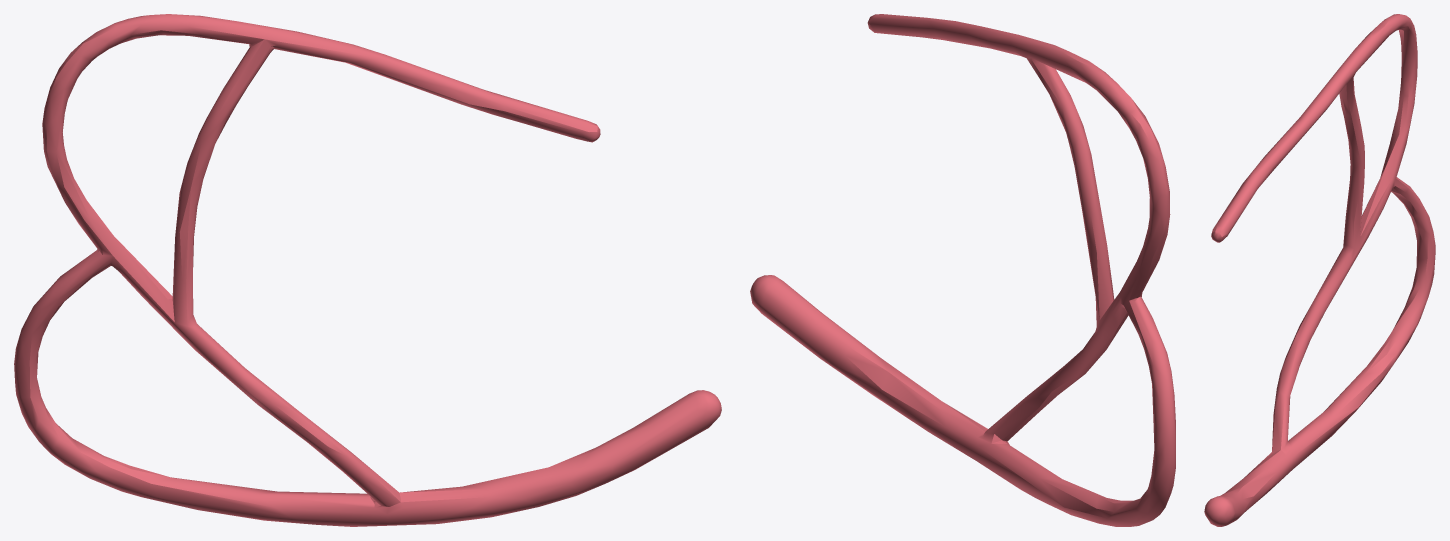
File: fma15407_fj3591.glb
The picture shows the model from 3 angles, left to right: view 1: azimuth 30°, elevation 25°; view 2: azimuth 150°, elevation 25°; view 3: azimuth 270°, elevation 25°; orthographic projection. The views are drawn at different scales.
Parts seen in each view (by area): view 1: FMA15407_FJ3591; view 2: FMA15407_FJ3591; view 3: FMA15407_FJ3591.
Part boxes in pixels (left/top/right/bottom): FMA15407_FJ3591: left=14, top=14, right=721, bottom=526; FMA15407_FJ3591: left=750, top=14, right=1175, bottom=526; FMA15407_FJ3591: left=1204, top=14, right=1435, bottom=526.
Bounding box in the file's own units: 0.0636 × 0.0536 × 0.029.
